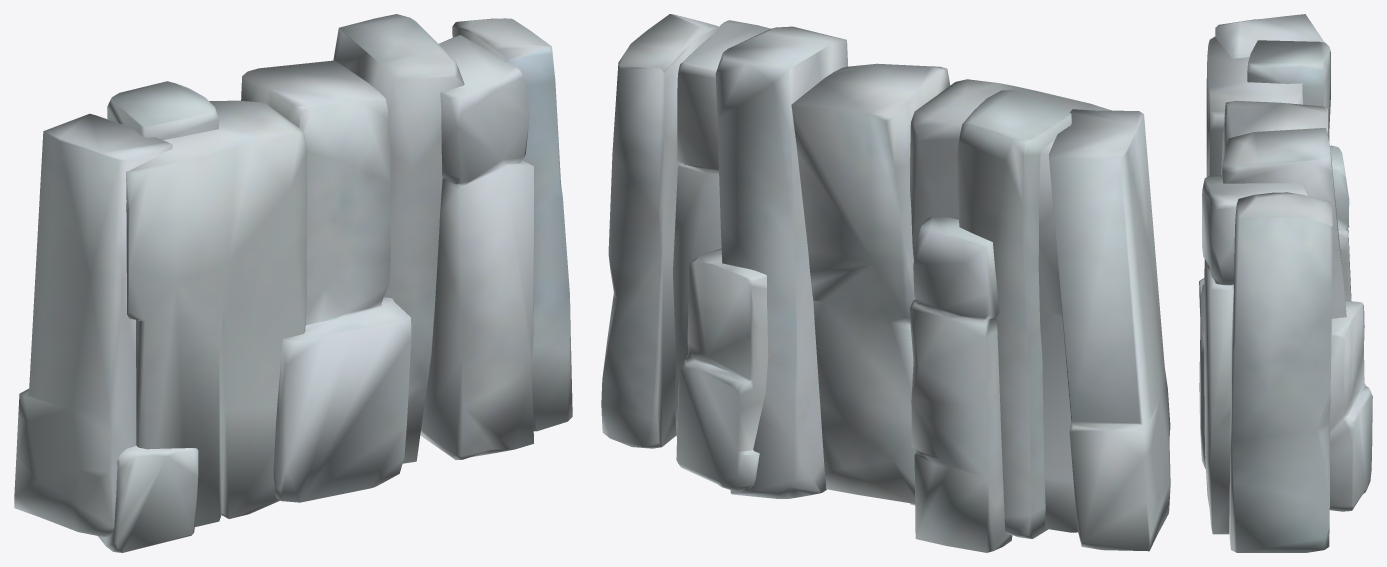
Rendered from P_CubicCliff03.obj.
3 renders of one model, left to right at view 1: azimuth 30°, elevation 25°; view 2: azimuth 150°, elevation 25°; view 3: azimuth 270°, elevation 25°, orthographic. The views are drawn at different scales.
Size of the model in its own units: 29.25 by 22.29 by 9.68.
